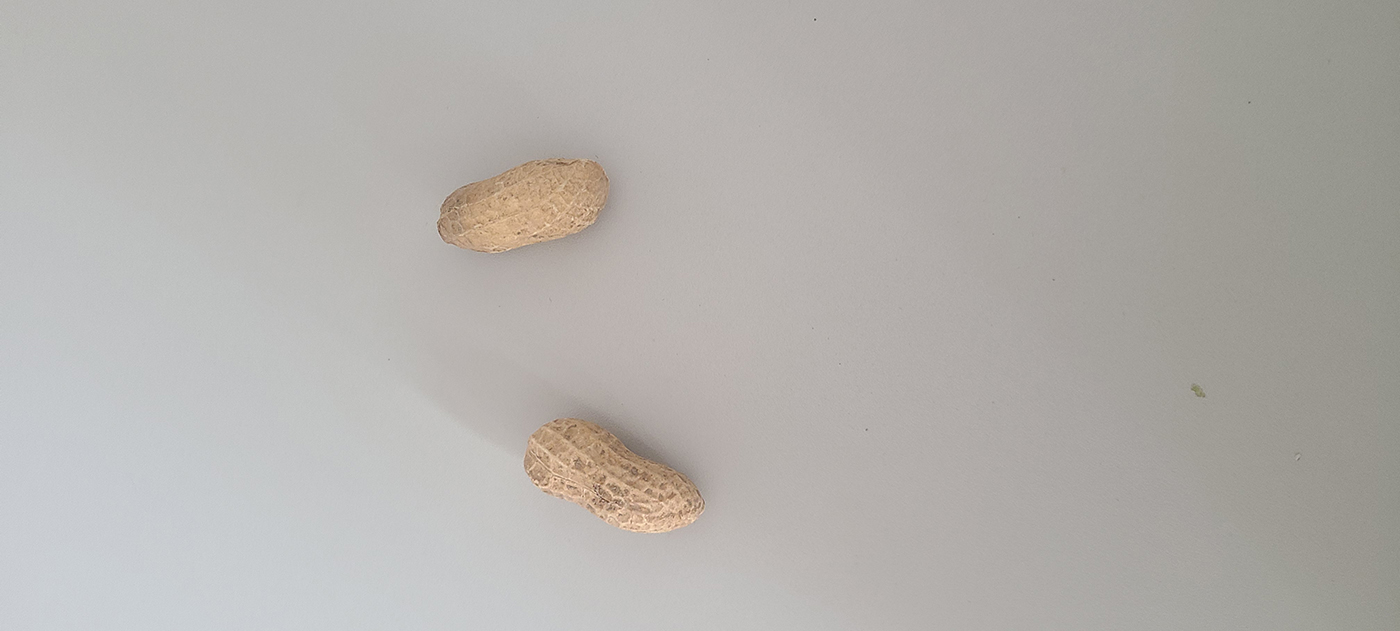h: (524, 417, 704, 535), (436, 155, 611, 253)
